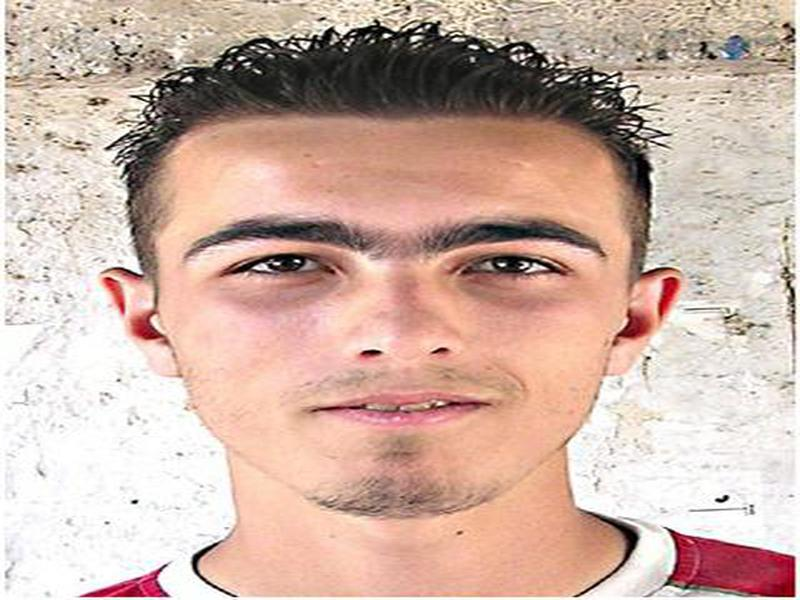without_mask: (159, 123, 642, 521)
